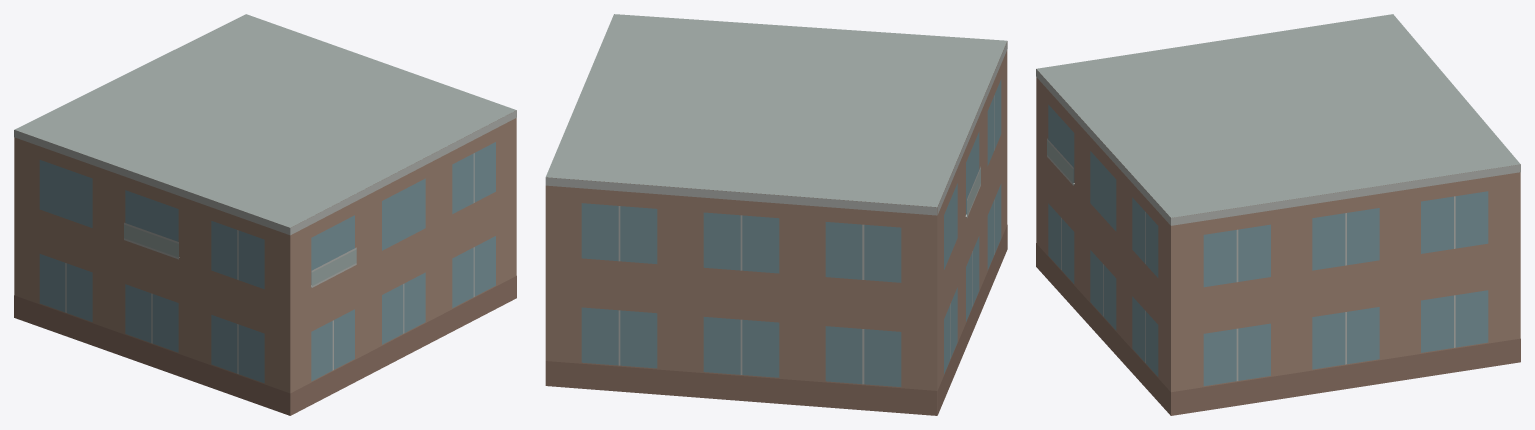
Rendered from survey-upis-32777375.glb.
3 renders of one model, left to right at view 1: azimuth 30°, elevation 25°; view 2: azimuth 150°, elevation 25°; view 3: azimuth 270°, elevation 25°, orthographic. The views are drawn at different scales.
Visible parts, largest first — view 1: survey-upis-32777375.tmp; view 2: survey-upis-32777375.tmp; view 3: survey-upis-32777375.tmp.
Part boxes in pixels (bbox=[...]): survey-upis-32777375.tmp: bbox=[14, 14, 516, 415]; survey-upis-32777375.tmp: bbox=[545, 14, 1007, 415]; survey-upis-32777375.tmp: bbox=[1036, 14, 1520, 415].
Bounding box in the file's own units: 13.49 × 6.1 × 13.55.
